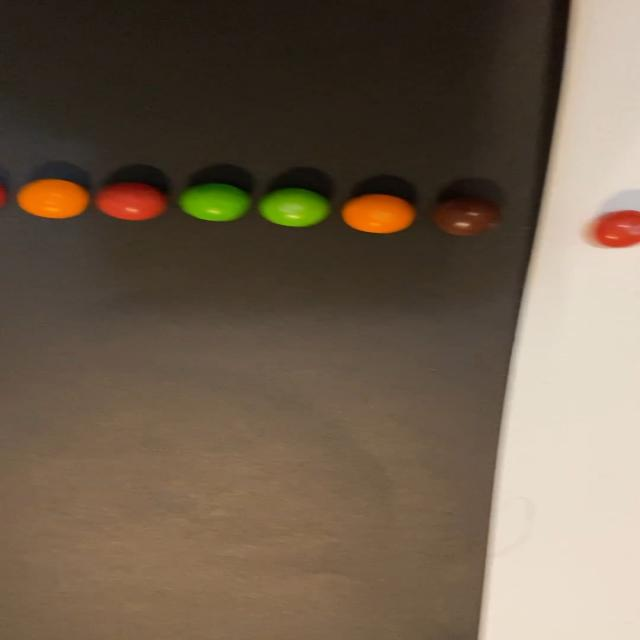smartie: (341, 194, 415, 233), (15, 179, 88, 218), (257, 187, 329, 226), (178, 183, 250, 221), (432, 196, 500, 236), (95, 182, 165, 220), (593, 210, 640, 247)
